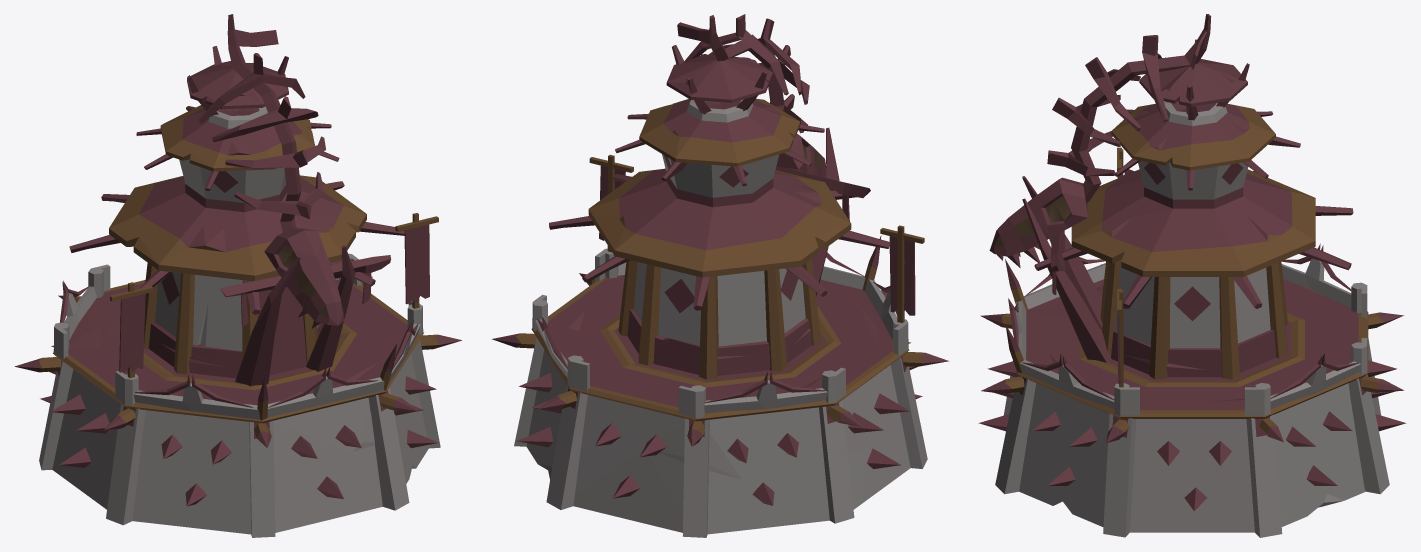
File: SM_Tower_Tribal_Tier4.fbx
The picture shows the model from 3 angles, left to right: view 1: azimuth 30°, elevation 25°; view 2: azimuth 150°, elevation 25°; view 3: azimuth 270°, elevation 25°; orthographic projection.
Visible parts, largest first — view 1: SM_Tower_Tribal_Tier4; view 2: SM_Tower_Tribal_Tier4; view 3: SM_Tower_Tribal_Tier4.
Part boxes in pixels (x1,y1,x2,y2): SM_Tower_Tribal_Tier4: (14,14,461,537); SM_Tower_Tribal_Tier4: (492,14,949,537); SM_Tower_Tribal_Tier4: (978,14,1406,537).
Bounding box in the file's own units: 12.13 × 13.86 × 12.19.
